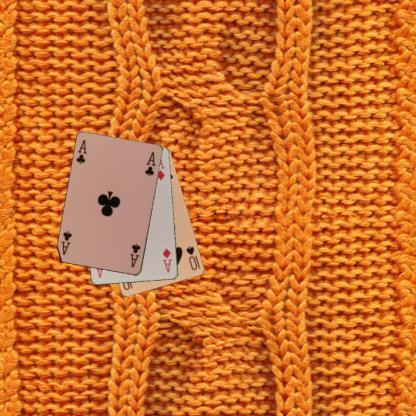10s: (184, 243, 202, 272)
Ac: (74, 136, 88, 166), (128, 242, 142, 269)
Ad: (160, 245, 174, 274)
